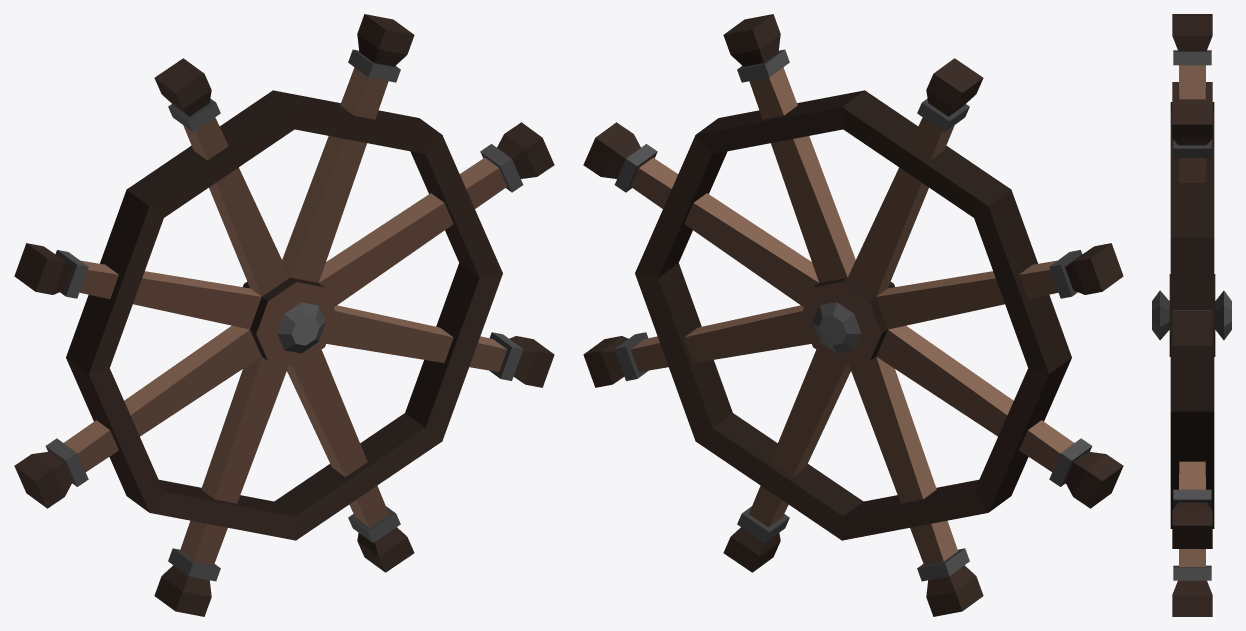
File: BoatWheel_02.glb
3 views of the same model, side by side, from view 1: azimuth 30°, elevation 25°; view 2: azimuth 150°, elevation 25°; view 3: azimuth 270°, elevation 25° (orthographic). The views are drawn at different scales.
Visible parts, largest first — view 1: BoatWheel_02; view 2: BoatWheel_02; view 3: BoatWheel_02.
Part boxes in pixels (bbox=[...]): BoatWheel_02: bbox=[14, 14, 554, 616]; BoatWheel_02: bbox=[583, 14, 1123, 616]; BoatWheel_02: bbox=[1152, 14, 1231, 616].
Size of what is drawn, in the model's own units: 1.04 by 1.04 by 0.1461.
Materials: 1 (1 with a texture image).
